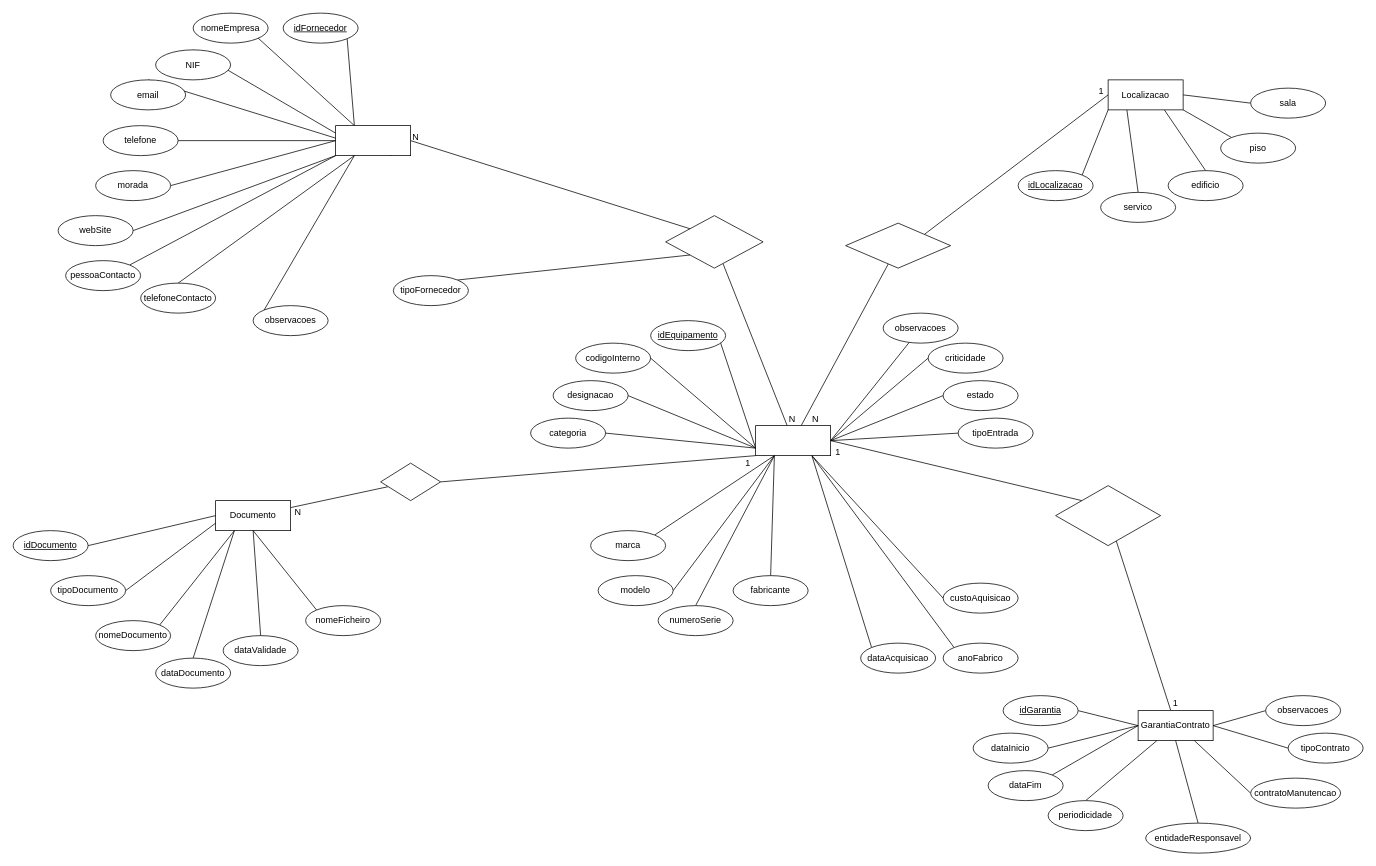
Image size: 1376x866. Some labels were removed from this diagram. Each missing label, with the centre of its shape:
"Equipamento" goes at point (793, 440).
"Está coberto por" goes at point (1108, 515).
"Fornece" goes at point (714, 241).
"Fornecedor" goes at point (373, 140).
"Localizado em" goes at point (898, 245).
"Possui" goes at point (410, 481).
